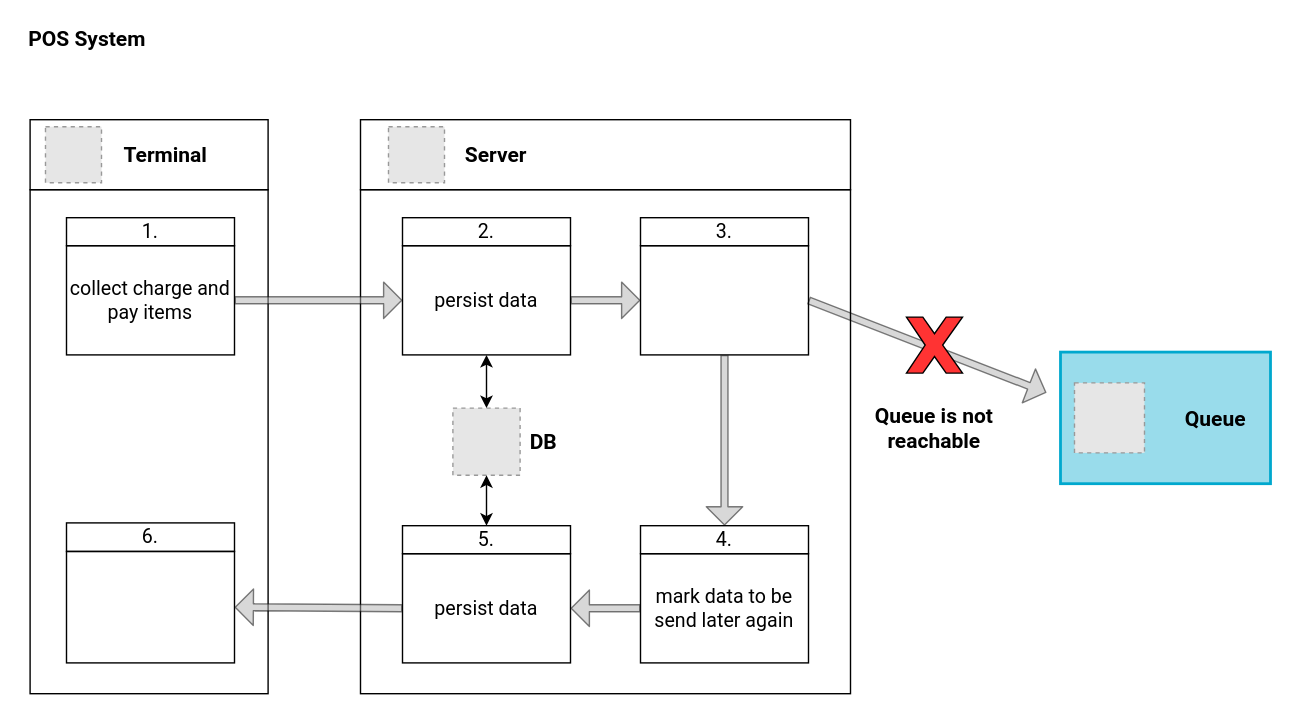
Image size: 1295x718. Some labels were removed from this diagram. Grey dashed boxes stand in for pictures. The centre of each missing label's shape, as x and y in pixels:
print receipt with hint: "Sicherheits mechanismus ausgefallen": the point at 149,606
send sign request: the point at 723,299
